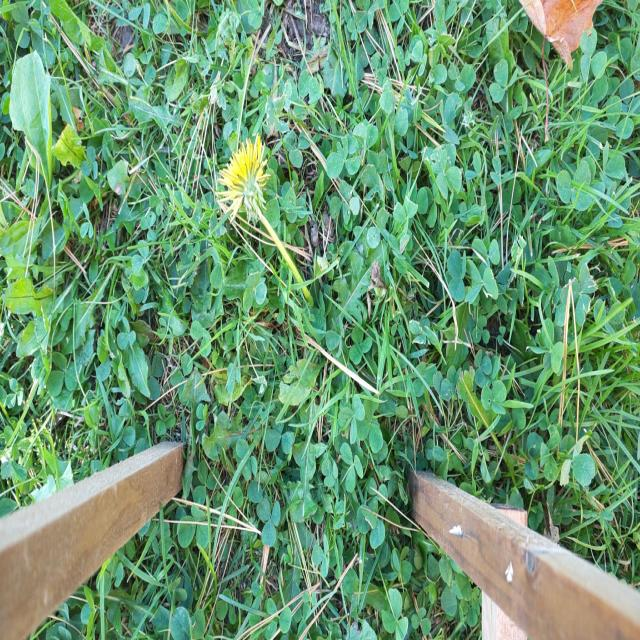base: (302, 284, 320, 320)
flower: (218, 136, 272, 225)
